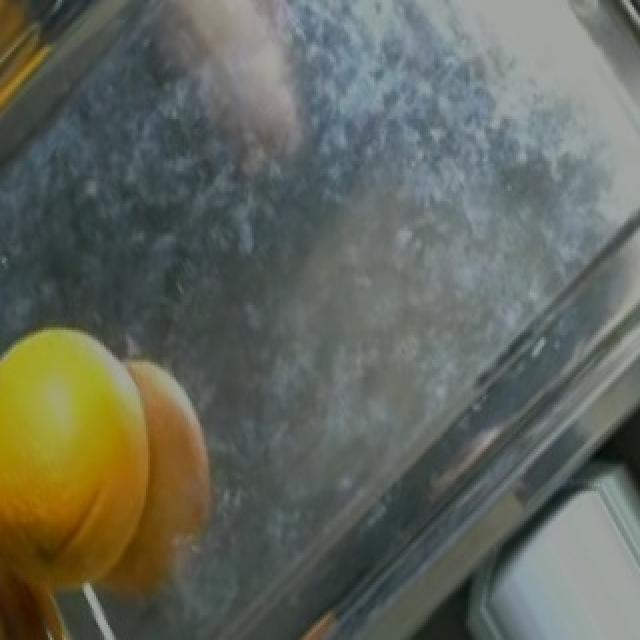Fruit: (2, 305, 170, 640), (0, 0, 66, 166)
